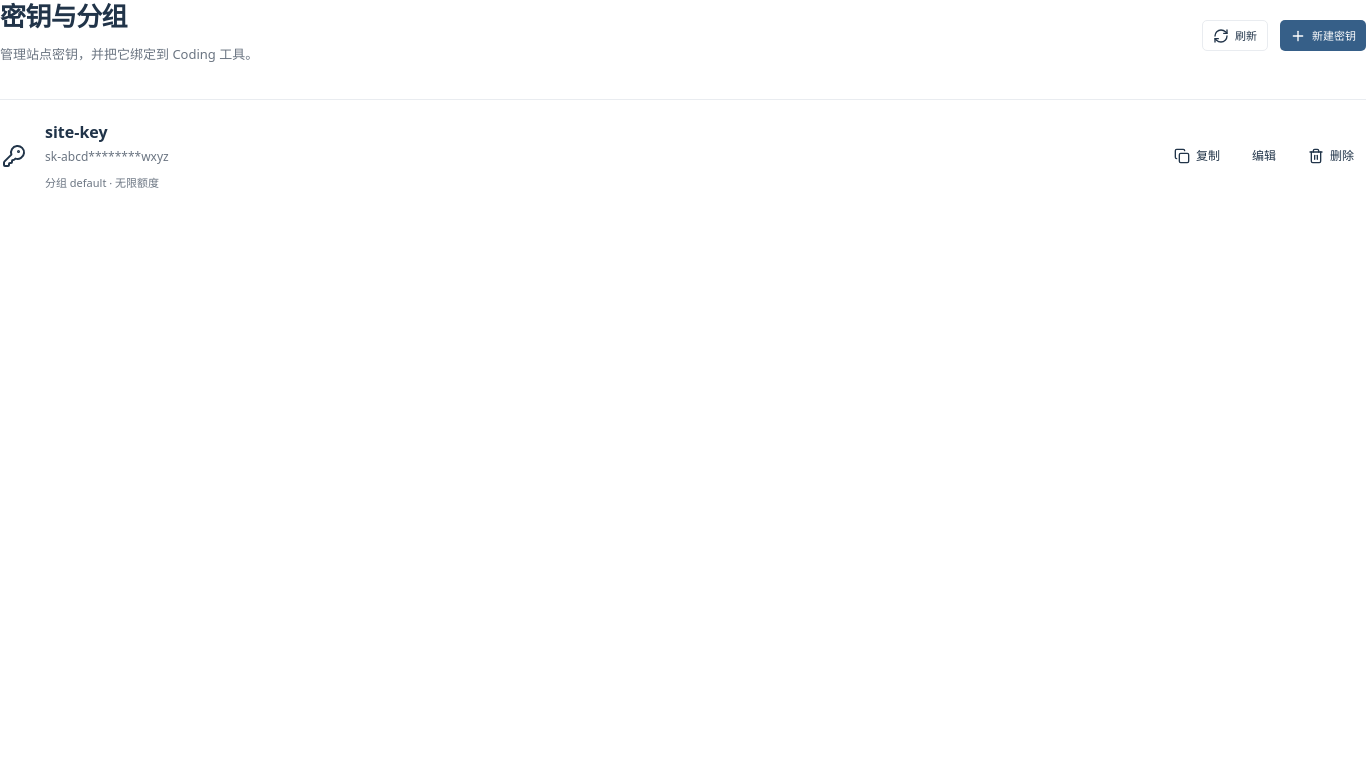
Test: 密钥编辑弹窗的分组下拉使用可交互的 shadcn Select
Click the button "编辑" at (1264, 156), box [1240,140,1288,172]
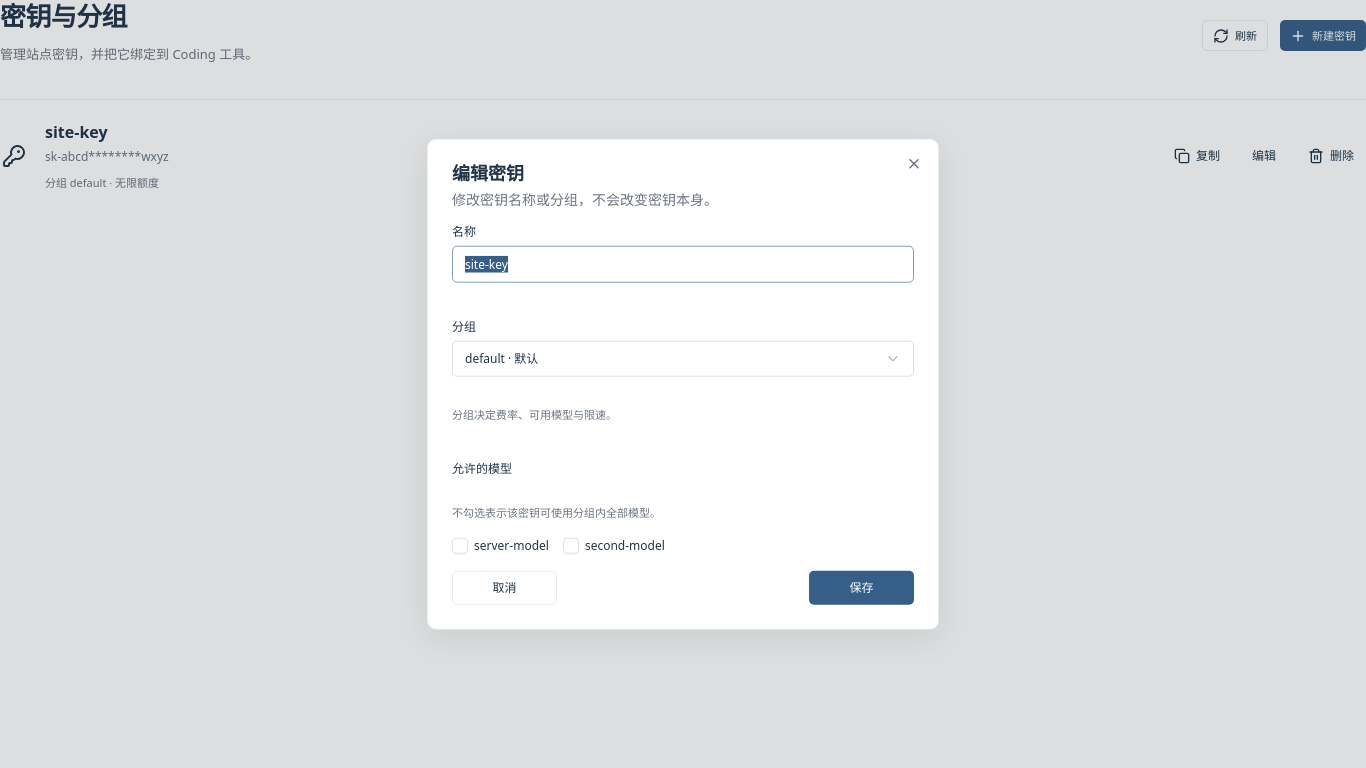
Expected: the heading "编辑密钥" is shown, [452,161,524,185]
Click the checkbox named "server-model" next to "server-model" at (460, 545), box [452,537,468,553]
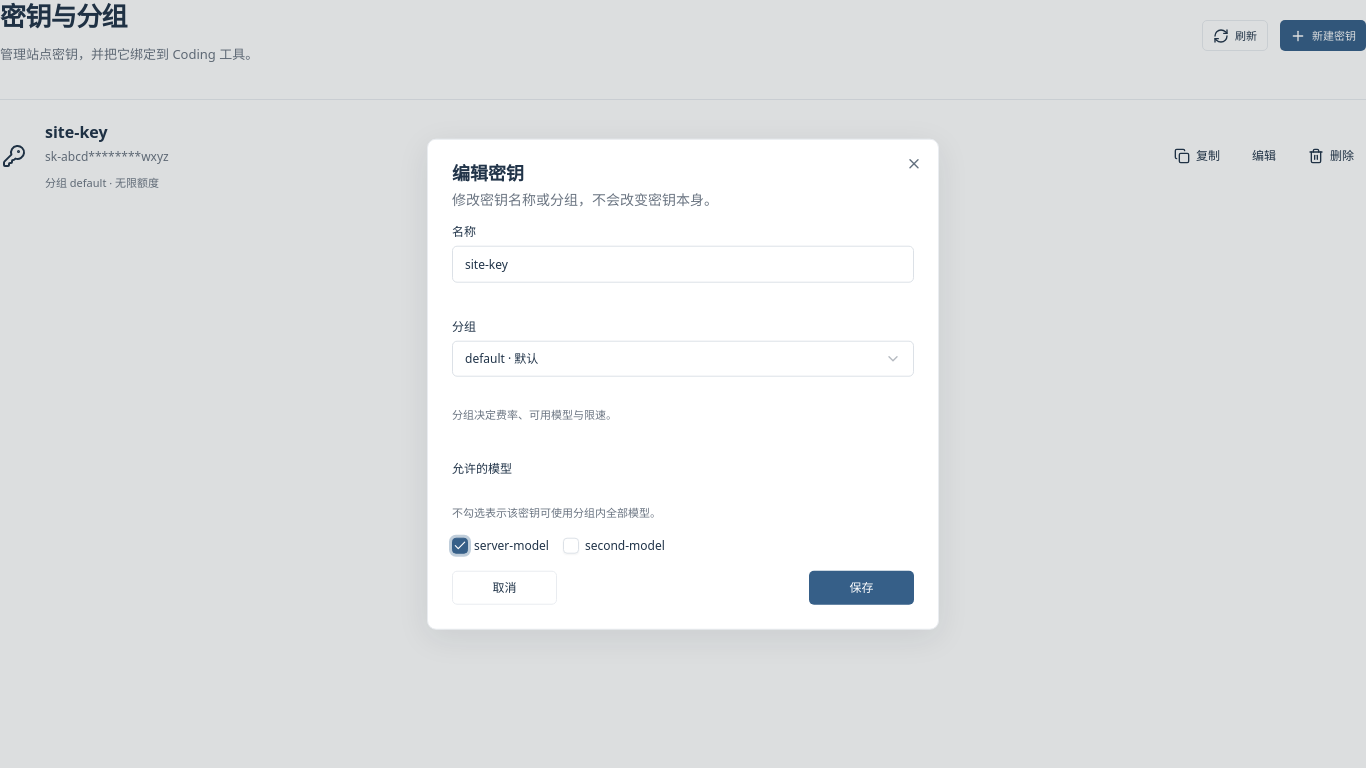
Expected: the checkbox named "server-model" next to "server-model" has attribute data-state="checked", [452,537,468,553]
// 分组：shadcn Select 展开后能看到选项
Click the dropdown named "分组" at (502, 359), box [452,341,914,377]
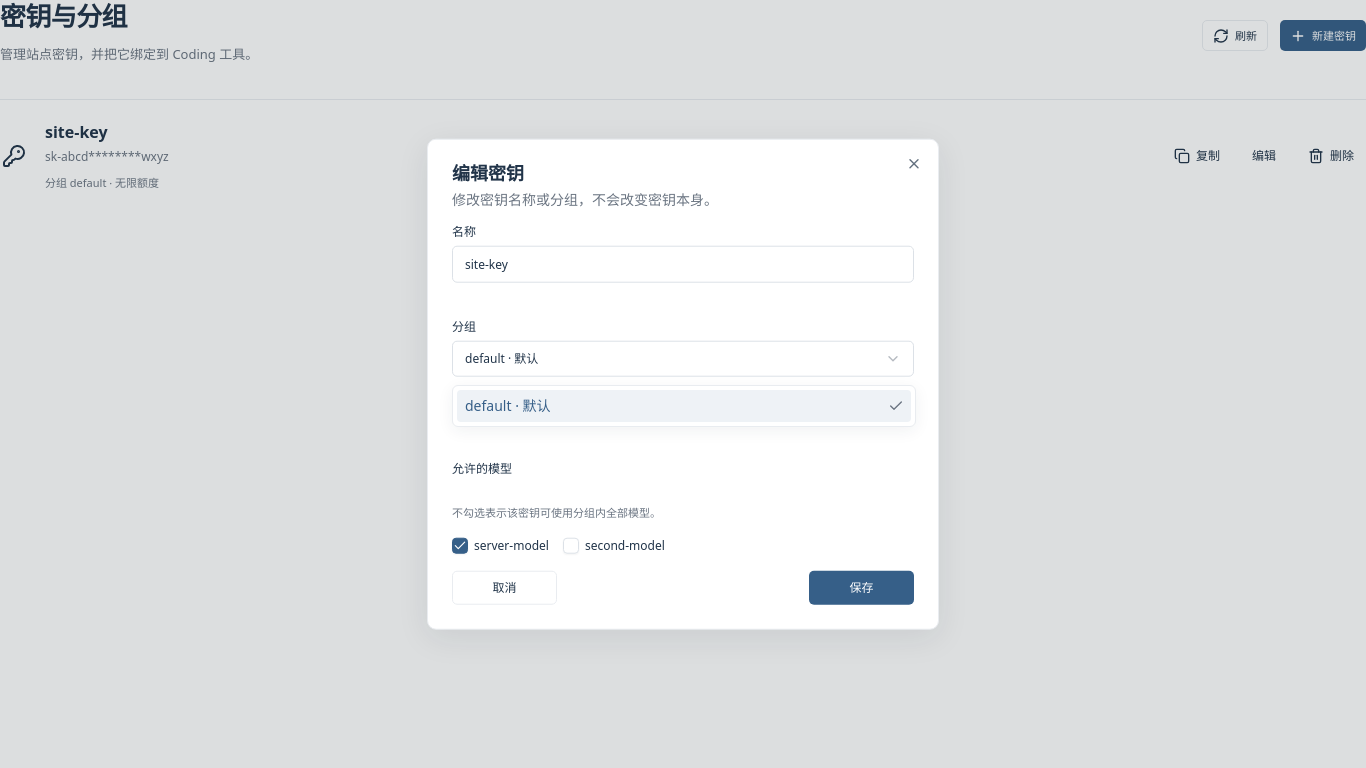
Expected: the option "default · 默认" is shown, [457,390,911,422]
